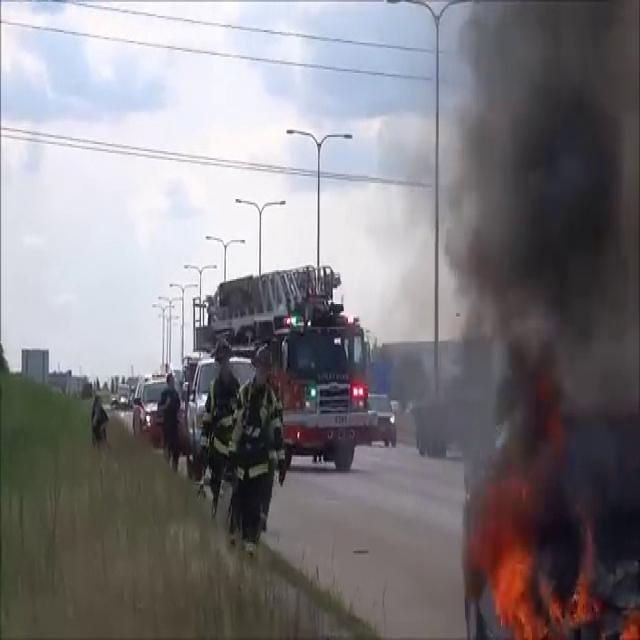Fire: (486, 530, 596, 638), (487, 528, 552, 638)
Smoke: (434, 0, 640, 562)
